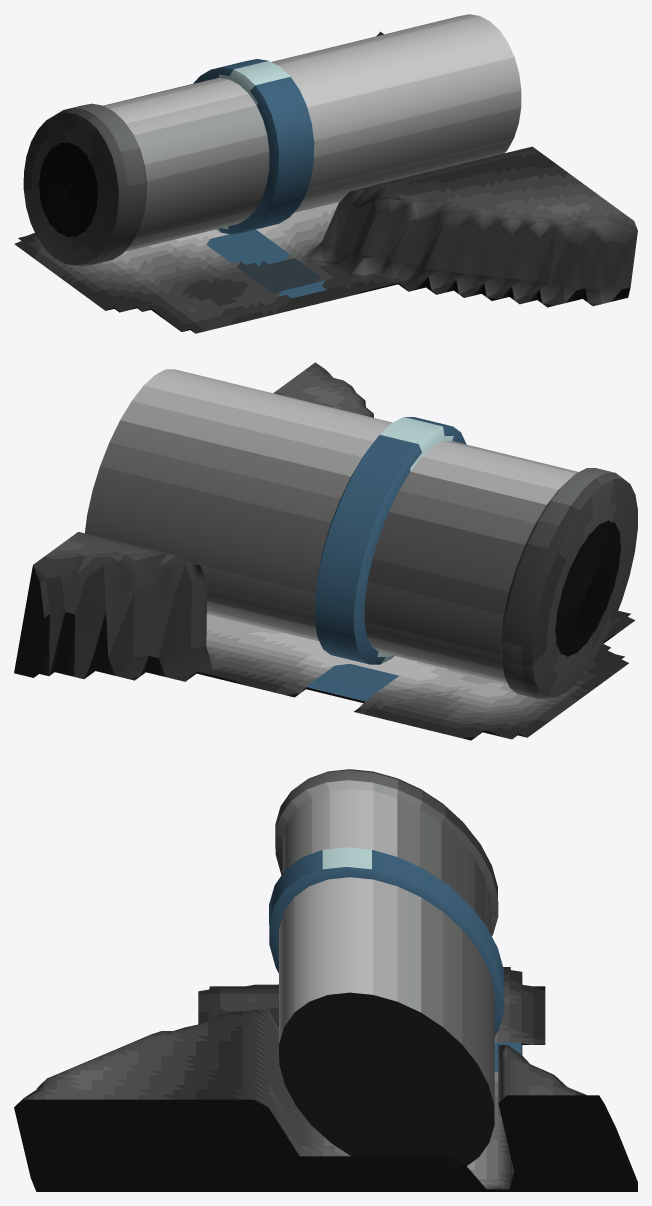
File: cannon_barrel_52.glb
3 renders of one model, top to bottom at view 1: azimuth 30°, elevation 25°; view 2: azimuth 150°, elevation 25°; view 3: azimuth 270°, elevation 25°, orthographic. The views are drawn at different scales.
Visible parts, largest first — view 1: cannon_barrel_52; view 2: cannon_barrel_52; view 3: cannon_barrel_52.
Boxes of the visible parts, x1=… form: cannon_barrel_52: x1=14, y1=14, x2=637, y2=333; cannon_barrel_52: x1=14, y1=362, x2=637, y2=740; cannon_barrel_52: x1=14, y1=769, x2=637, y2=1191.
Bounding box in the file's own units: 23.03 × 9.9 × 26.96.
